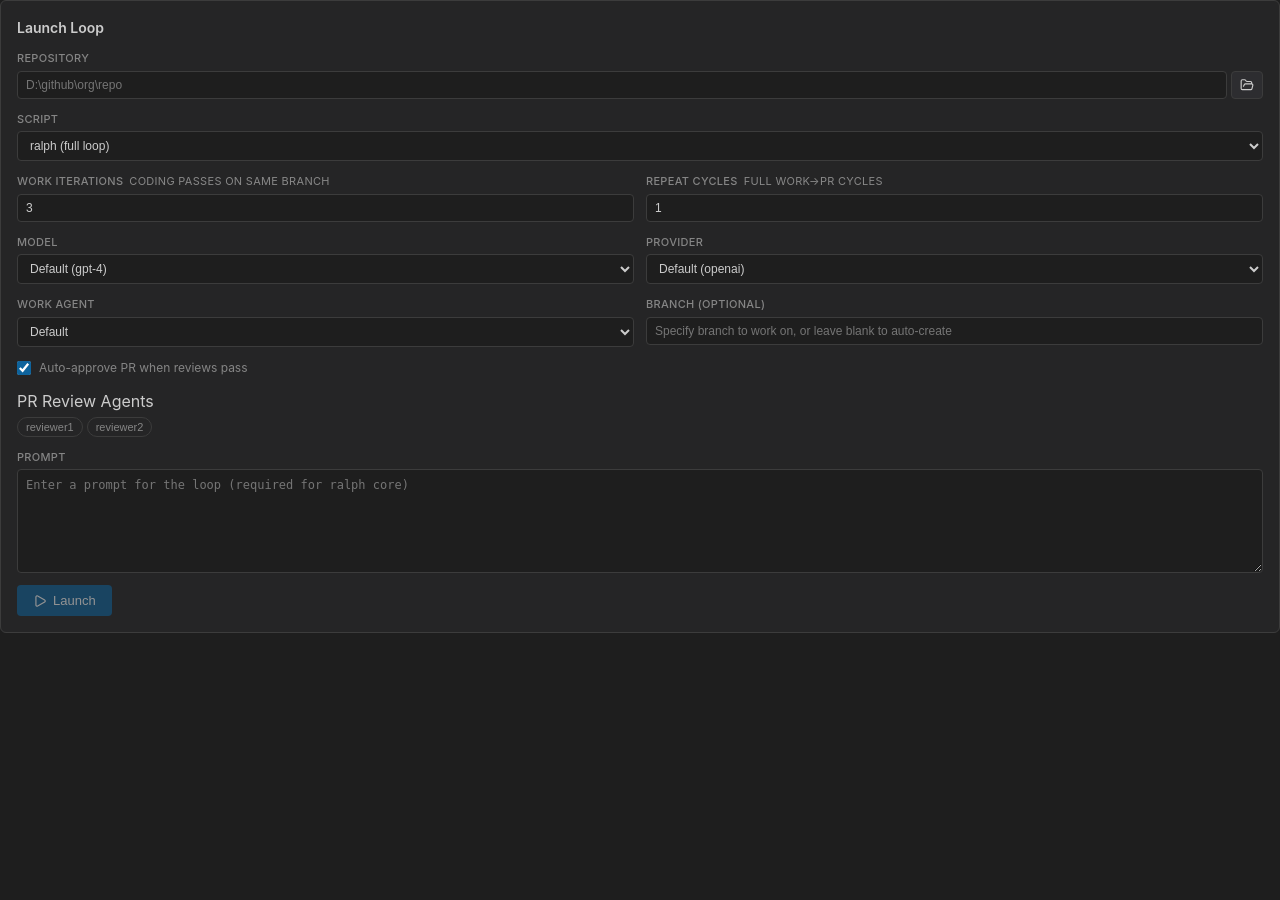
Test: RalphLaunchForm › Form Field Interactions › disables iterations field when ralph-pr script is selected
Select "ralph-pr (PR only)" in the dropdown labelled "Script" at (640, 146), box top-left (17, 131), bottom-right (1263, 161)
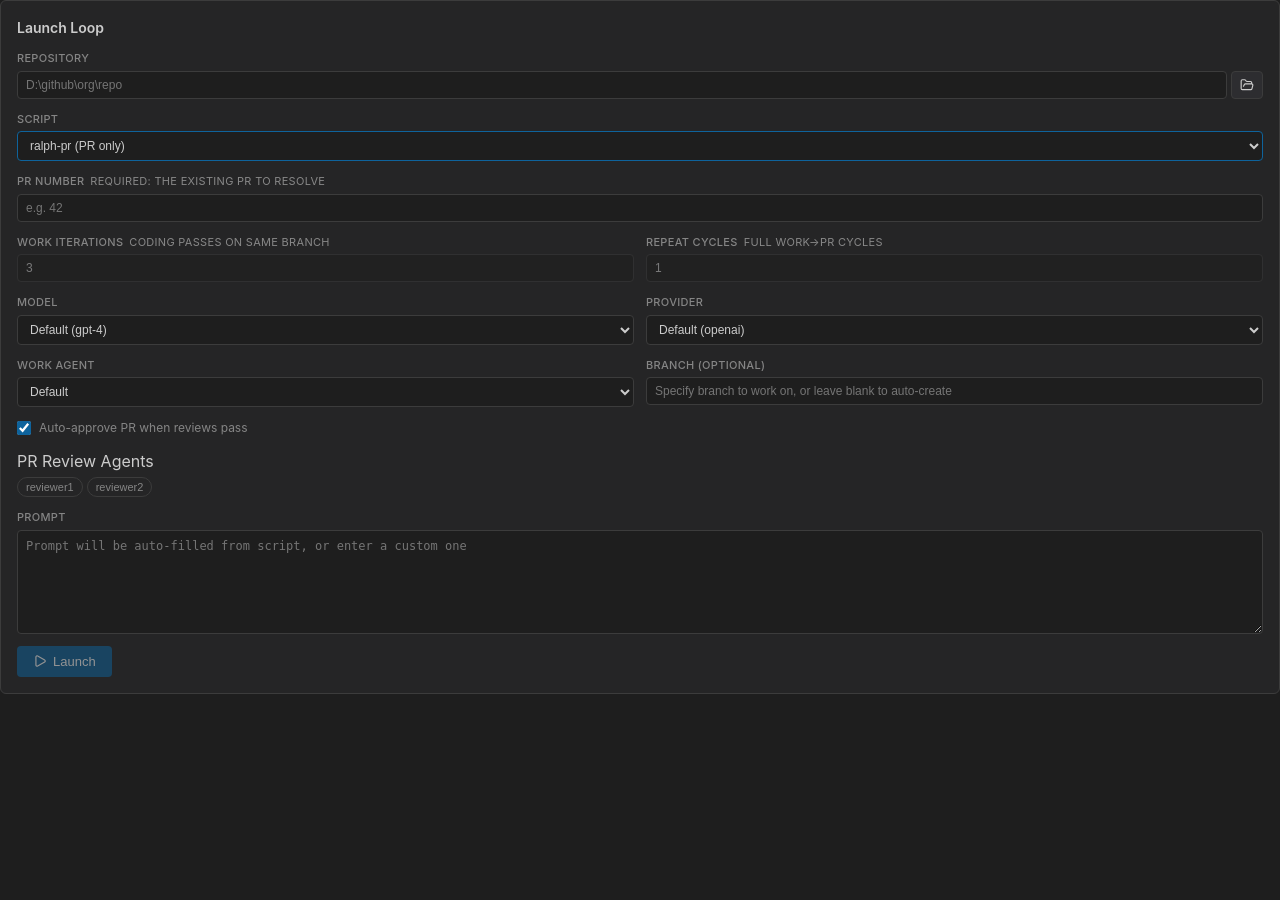
Expected: the number field labelled "Iterations" is disabled, top-left (17, 254), bottom-right (634, 282)
